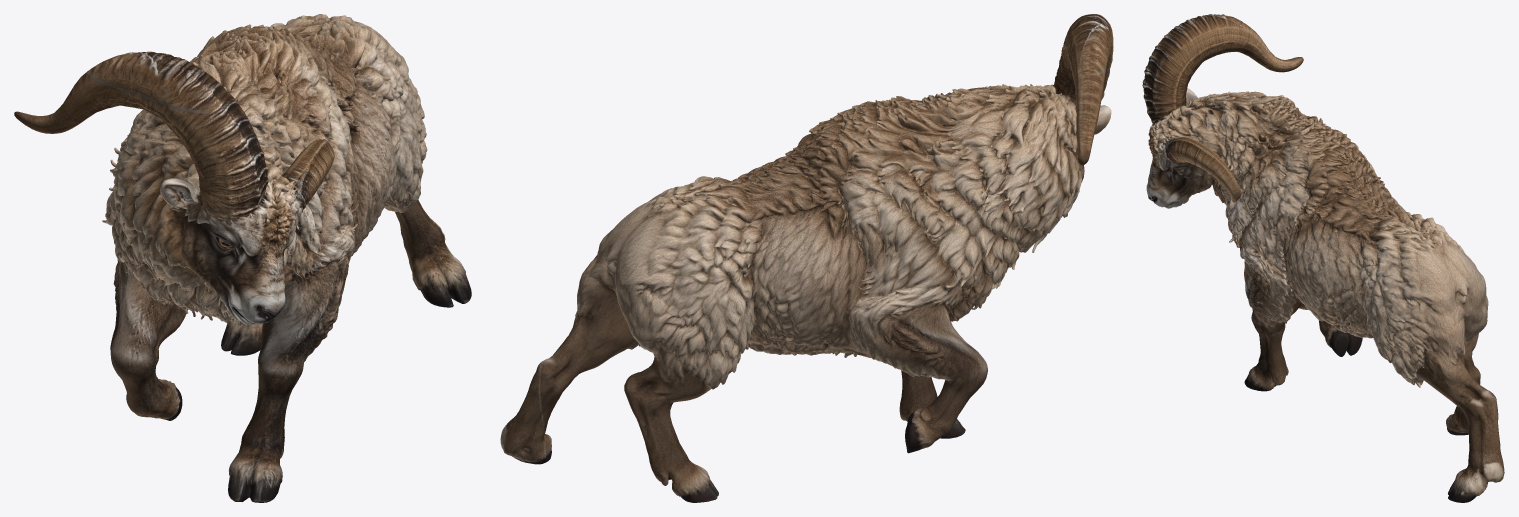
The model's file is ram.glb.
3 renders of one model, left to right at view 1: azimuth 30°, elevation 25°; view 2: azimuth 150°, elevation 25°; view 3: azimuth 270°, elevation 25°, orthographic. The views are drawn at different scales.
Size of the model in its own units: 1.9 by 1.59 by 1.6.
Materials: 1 (1 with a texture image).
